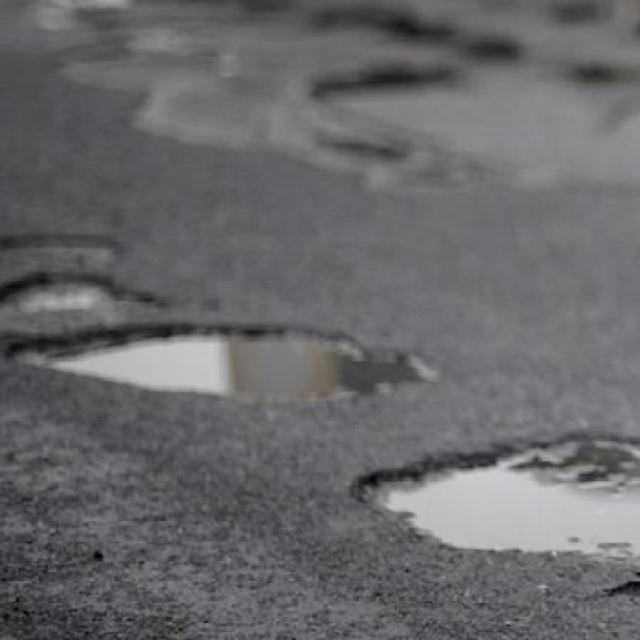pothole: (345, 425, 640, 559), (2, 318, 440, 404), (2, 267, 178, 319)
